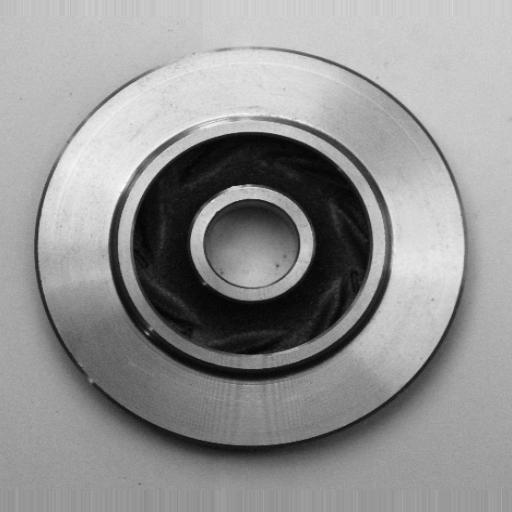scratch: (159, 29, 241, 76), (182, 104, 268, 134)
unpolished_casting: (37, 44, 472, 454)
